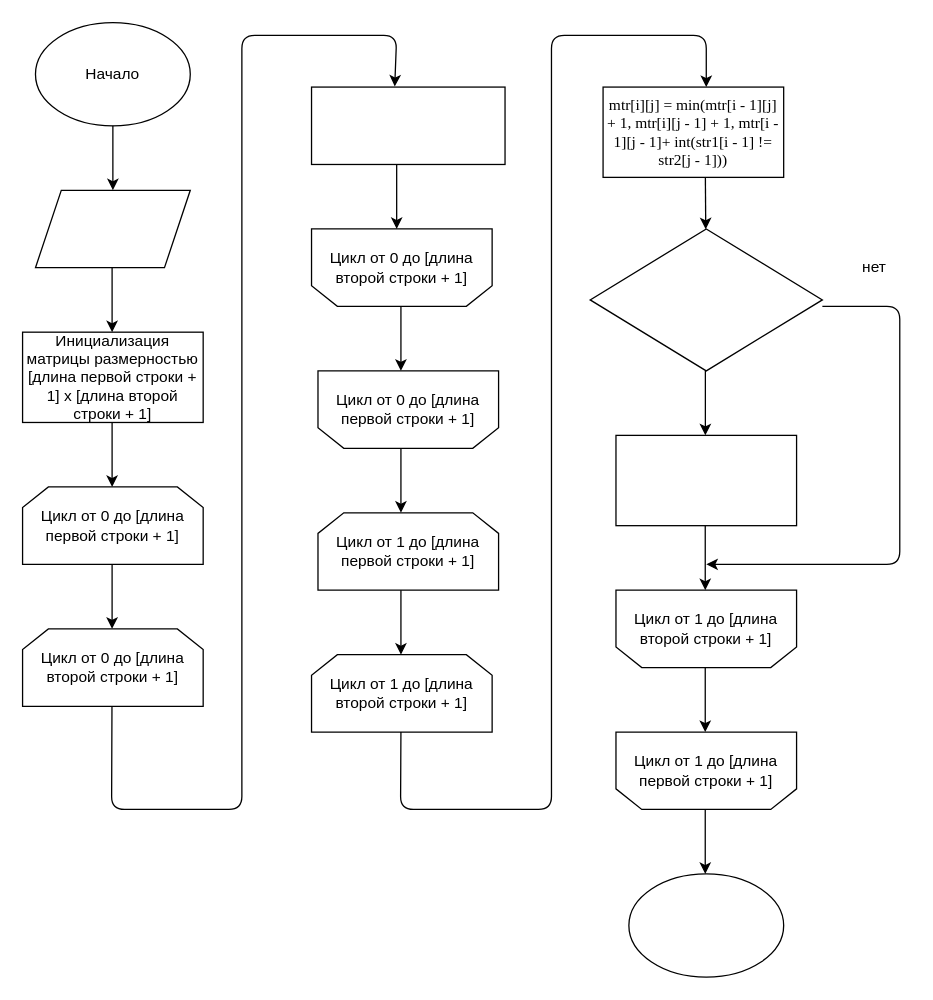
Some shapes in this 933 by 1000 pixel diagram are drawn without their labels. The box of each missing label's shape, as (x1, y1, x2, y2) in pixels:
mtr[i][j] = i + j: (310, 86, 505, 164)
mtr[i][j] = min(mtr[i][j], mtr[i - 2][j - 2] + 1): (615, 434, 797, 526)
Ввод строк str1 и str2: (34, 189, 190, 268)
если i > 1 and j > 1 и str1[i - 1] == str2[j - 2] и str1[i - 2] == str2[j - 1]: (589, 228, 822, 371)
Конец: (628, 873, 784, 977)
